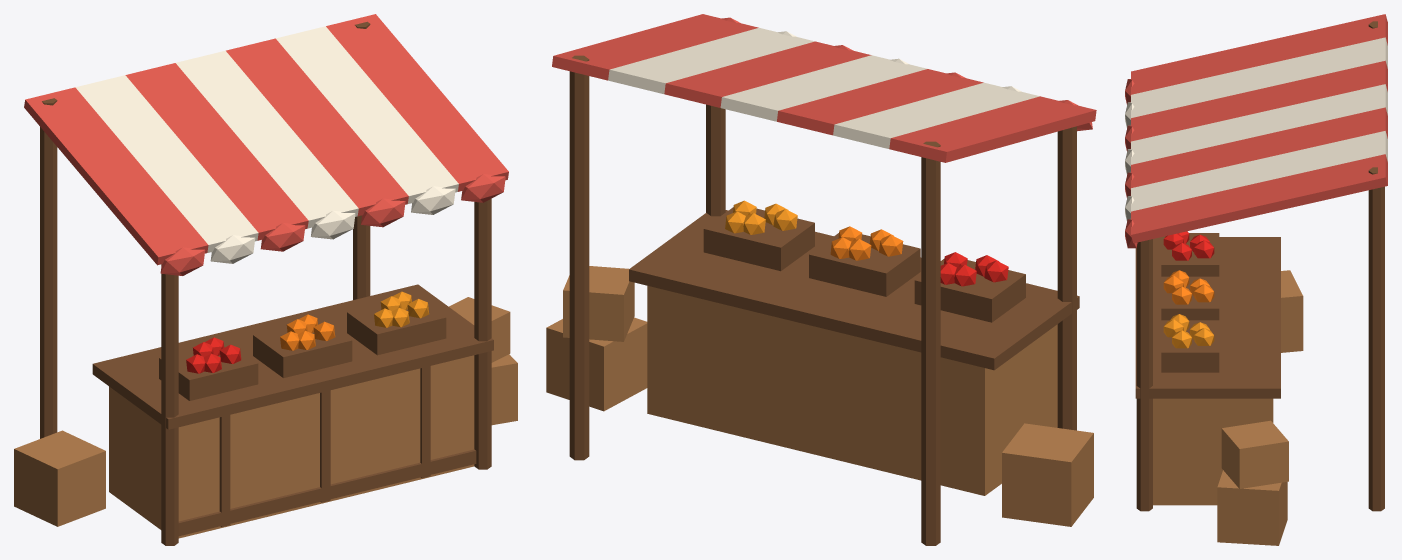
The model's file is shop_stall.glb.
3 renders of one model, left to right at view 1: azimuth 30°, elevation 25°; view 2: azimuth 150°, elevation 25°; view 3: azimuth 270°, elevation 25°, orthographic. The views are drawn at different scales.
Parts seen in each view (by area): view 1: shop_stall; view 2: shop_stall; view 3: shop_stall.
Part boxes in pixels (x1=…): shop_stall: x1=14, y1=14, x2=517, y2=545; shop_stall: x1=546, y1=14, x2=1096, y2=545; shop_stall: x1=1125, y1=14, x2=1387, y2=545.
Bounding box in the file's own units: 3.78 × 2.71 × 1.9.
